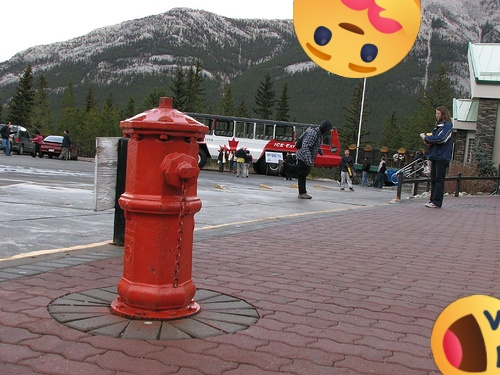care: (293, 0, 421, 78)
haha: (431, 295, 500, 375)
